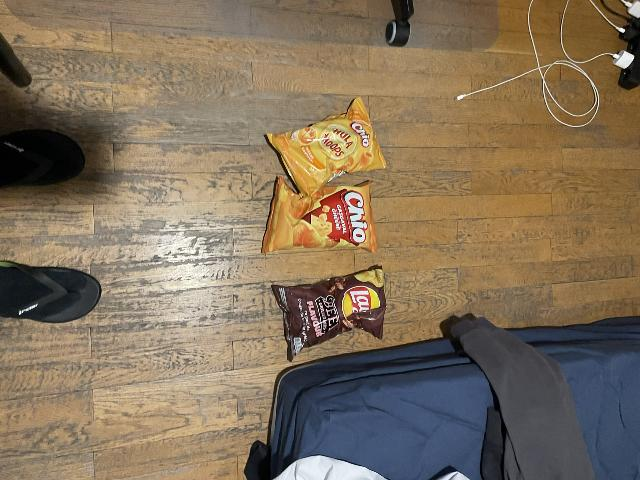Chio Cascaval 125g: (261, 176, 377, 255)
Chio Hula Hoops Cheese 70g: (264, 99, 385, 199)
Lays Beef Grilled Ribs 125g: (268, 266, 387, 356)
